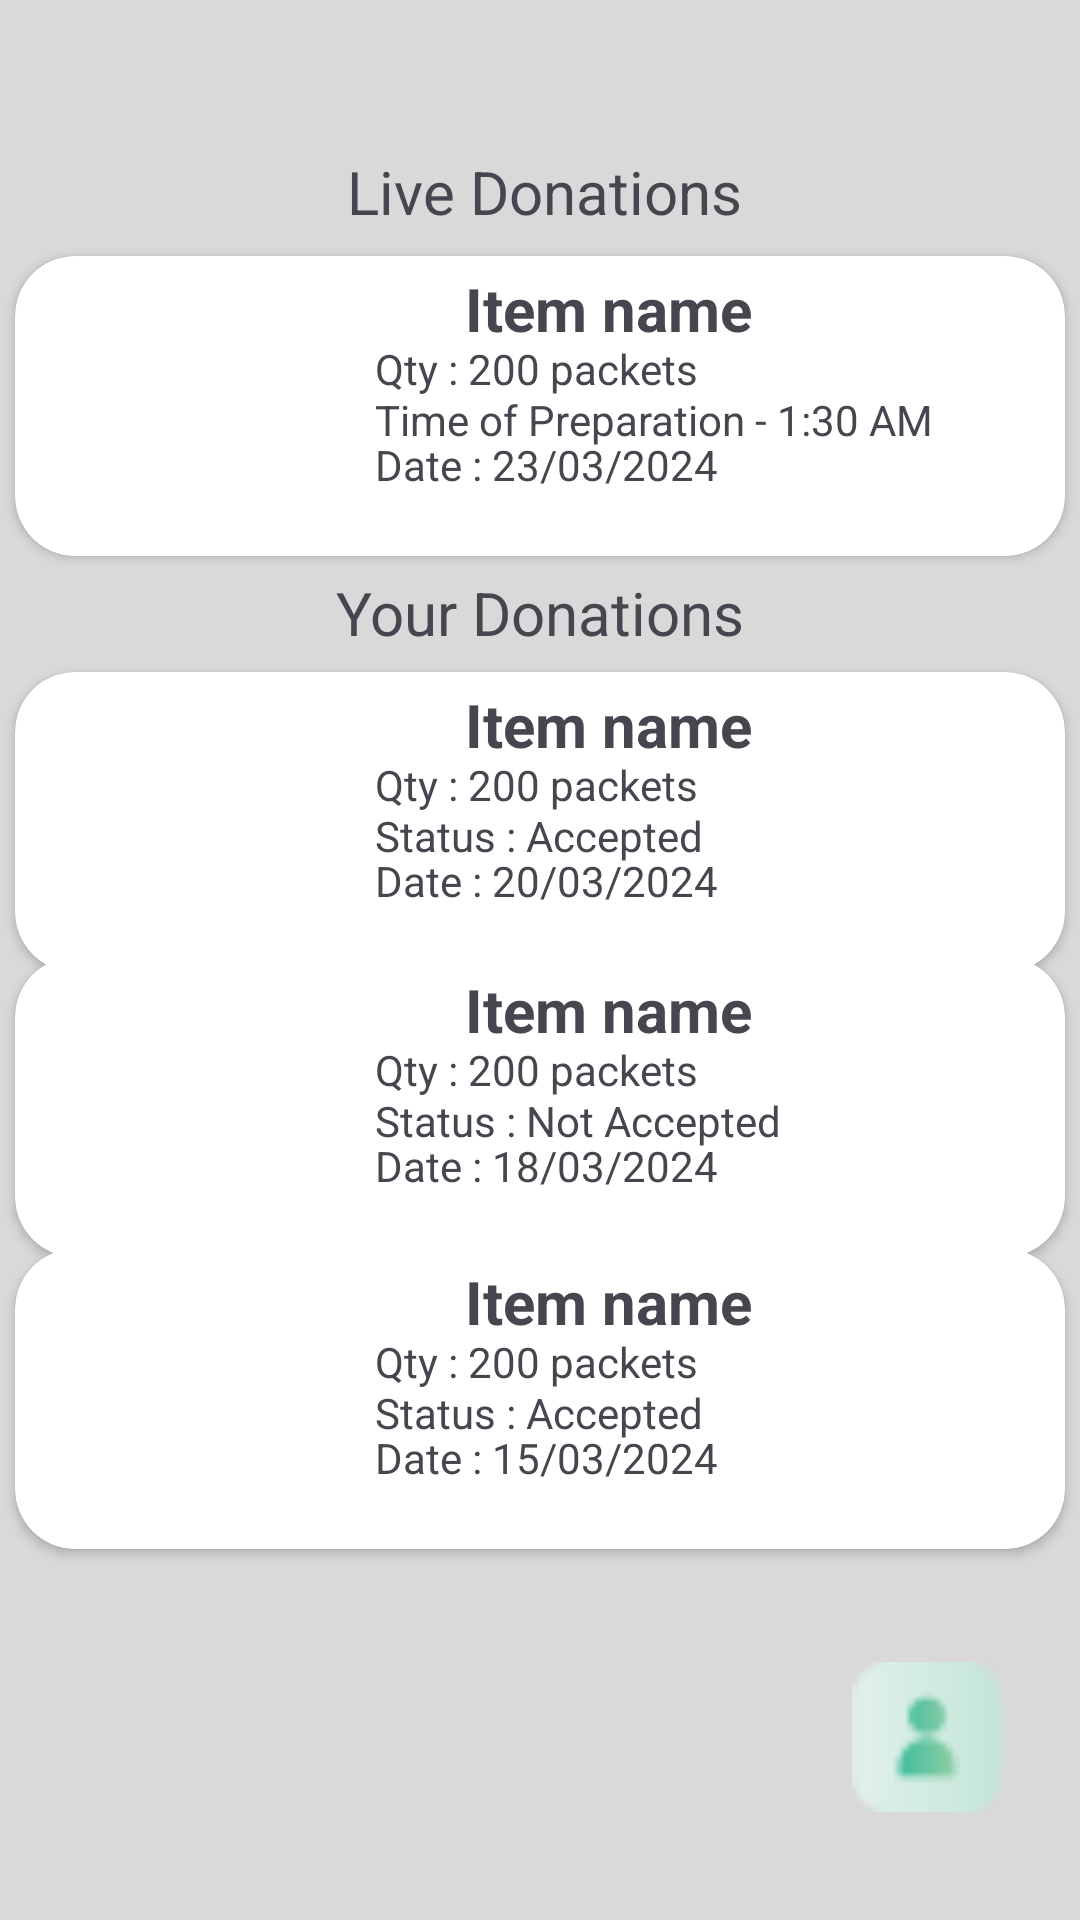

Screen size 1080w x 1920h. Icon name, then its box in pixels as {"x1": x1, "y1": y1, "x2": x2, "y2": y2}:
profile: {"x1": 895, "y1": 1694, "x2": 959, "y2": 1781}
